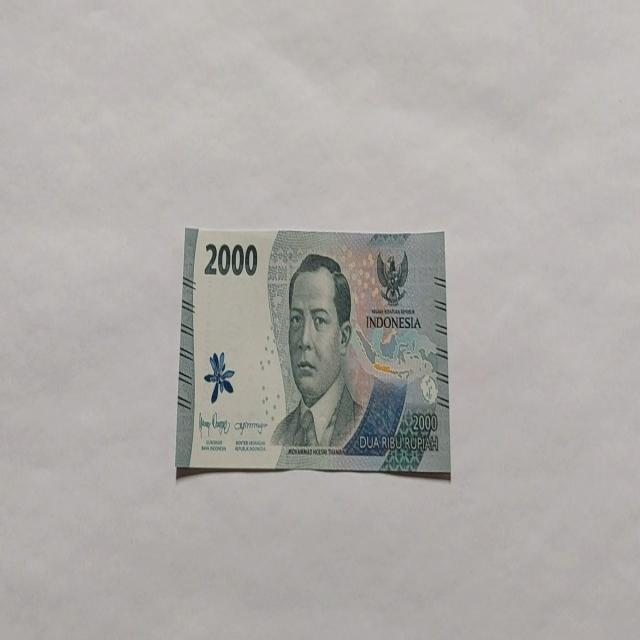dua ribu rupiah: (175, 225, 451, 479), (270, 252, 366, 449)
